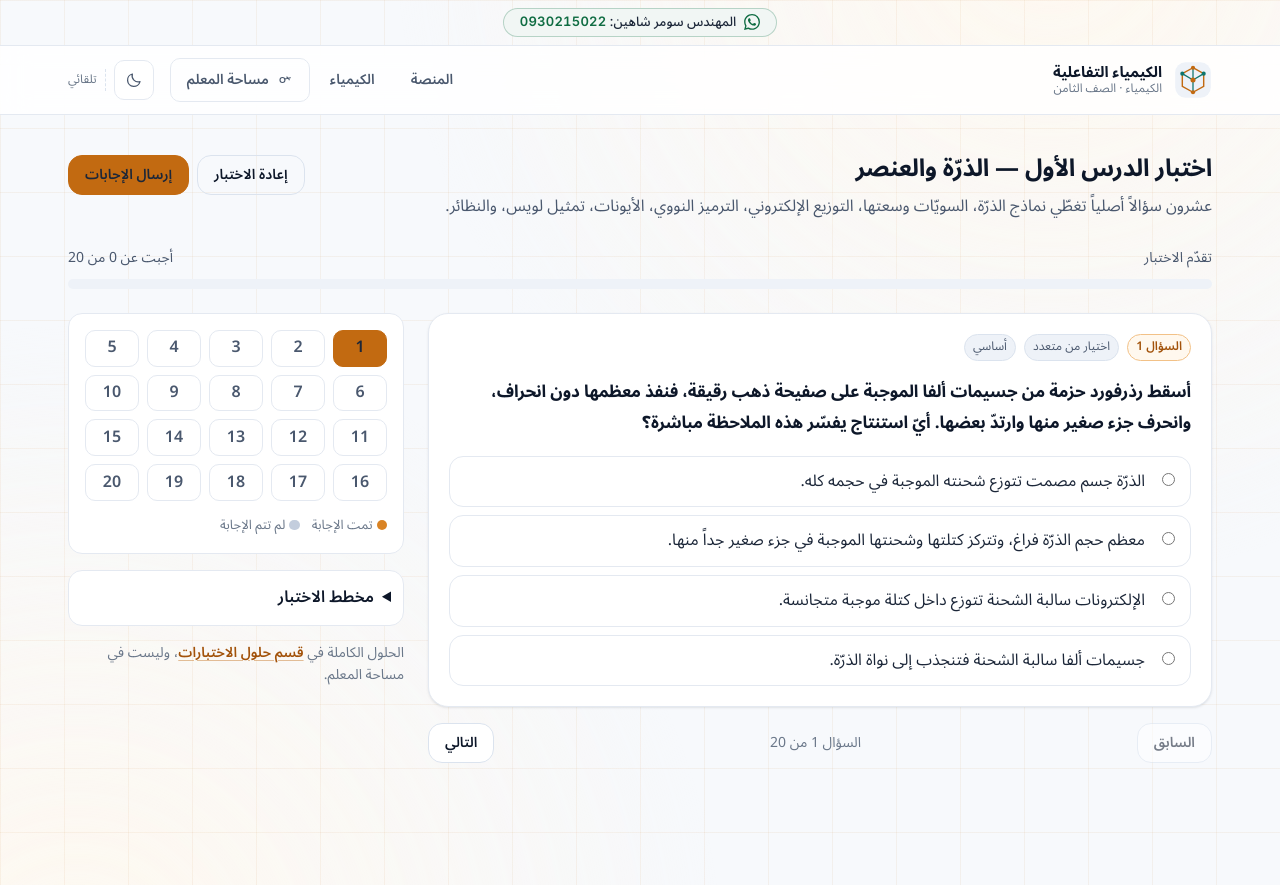
Test: Attempt › produces a score only after submit
The width and height of the screenshot is (1280, 885).
Check: the heading "اختبار الدرس الأول — الذرّة والعنصر" is shown, box [856,143,1212,194]
Click the 2nd radio button. click: (1168, 539)
box: [1162,532,1175,546]
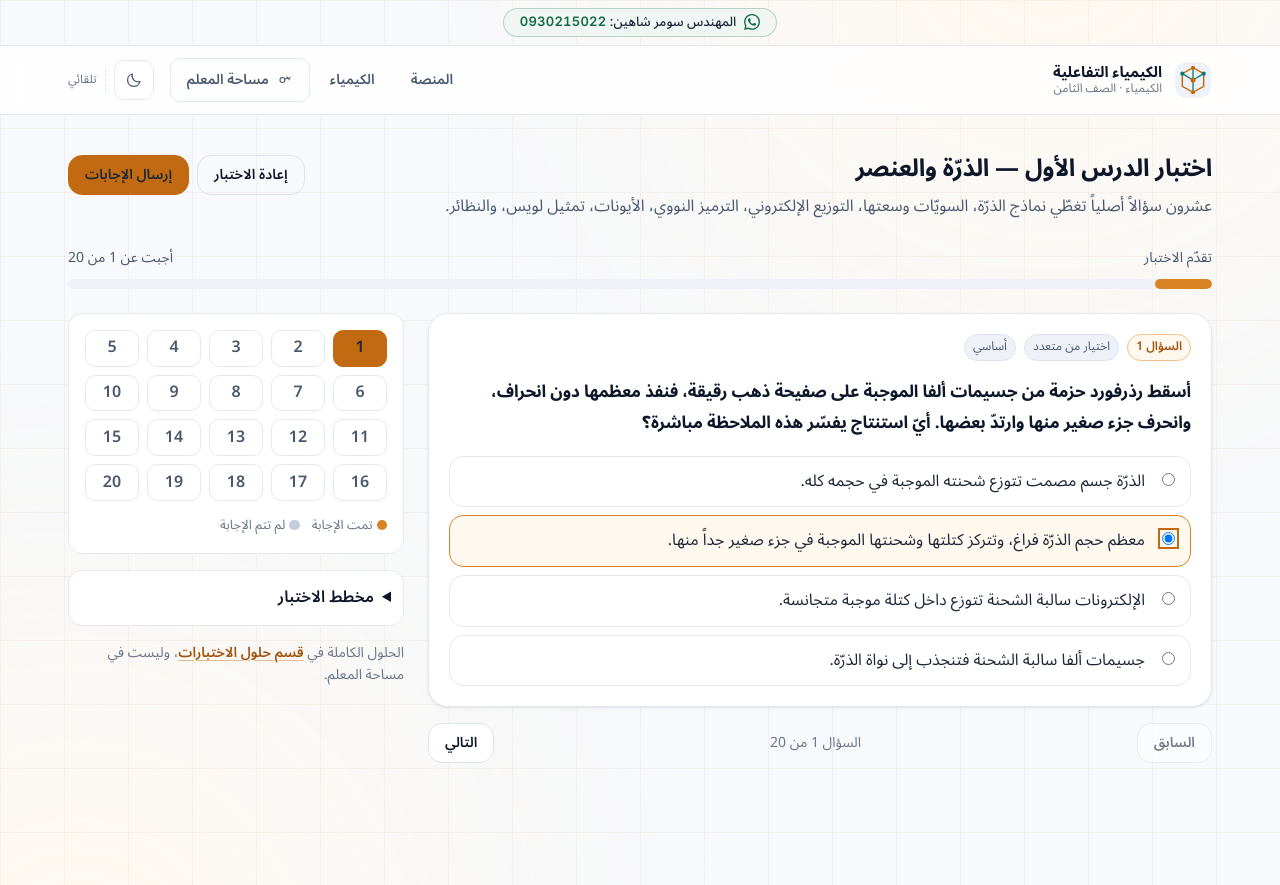
Click the button "إرسال الإجابات". click: (128, 175)
box: [68,155,189,195]
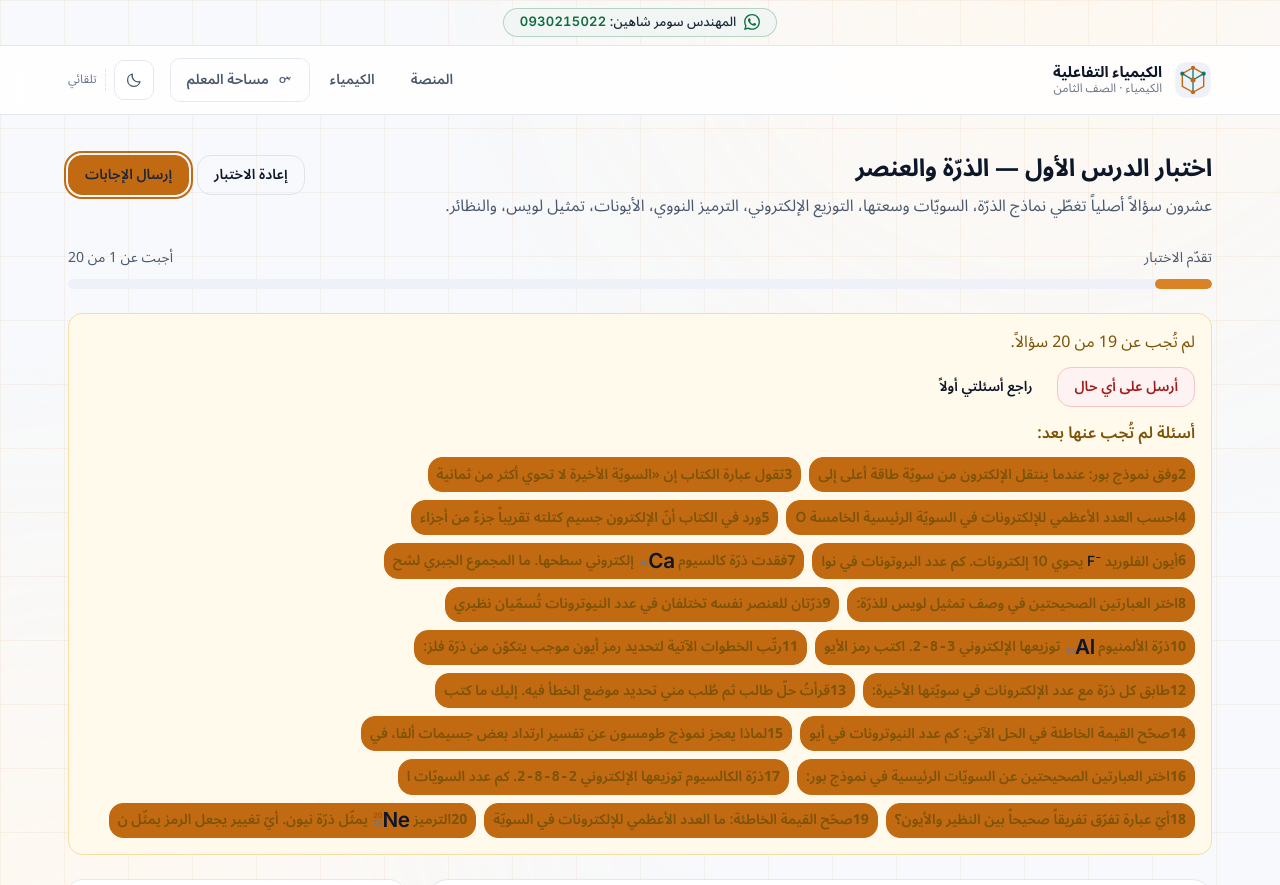
Click the button "أرسل على أي حال". click: (1126, 387)
box: [1058,367,1195,407]
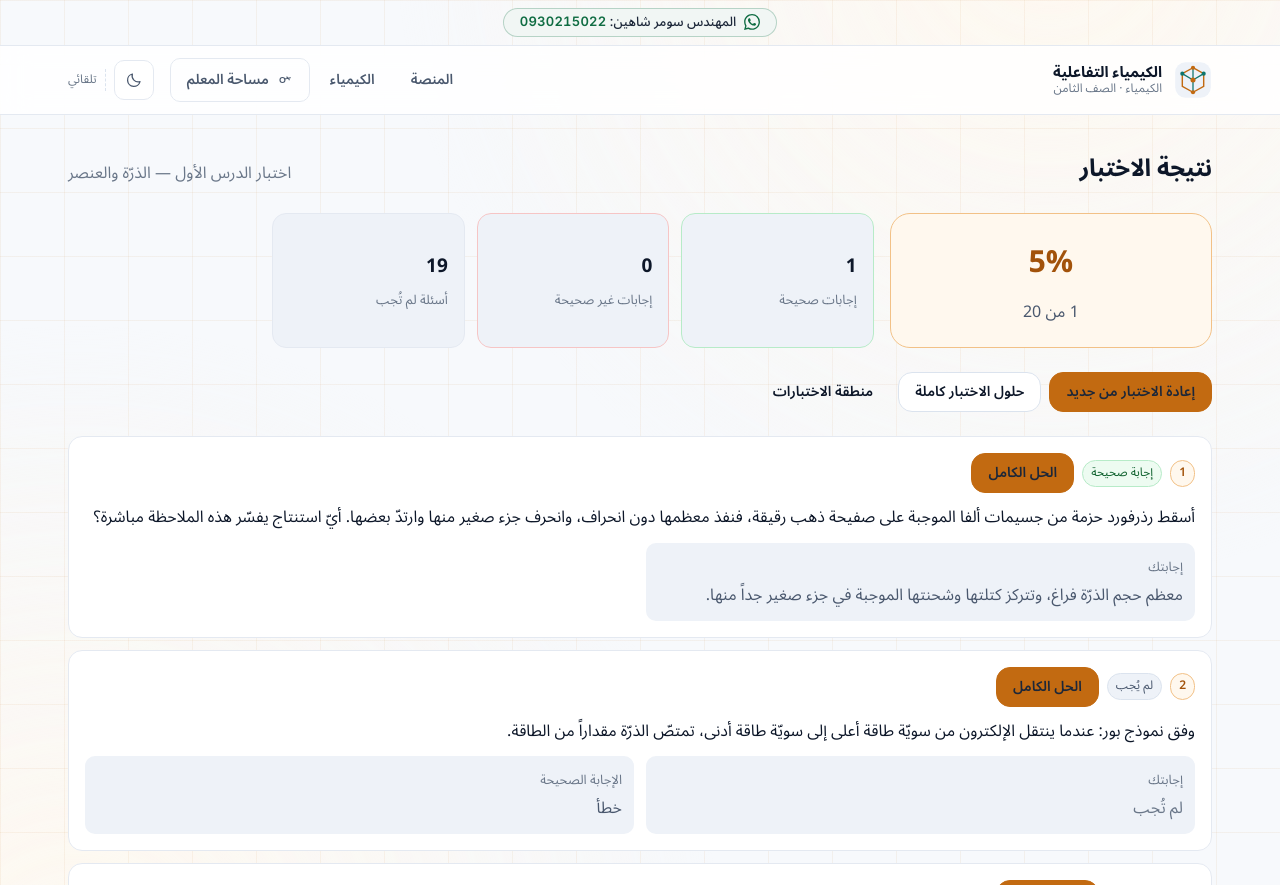
Check: the heading "نتيجة الاختبار" is shown, box [1080,155,1212,184]
Check: the text "5%" is shown, box [1028,230,1073,294]
Check: the text "إجابات صحيحة" is shown, box [779,286,857,314]
